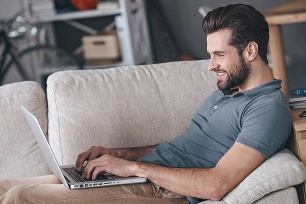male: (197, 13, 269, 94)
